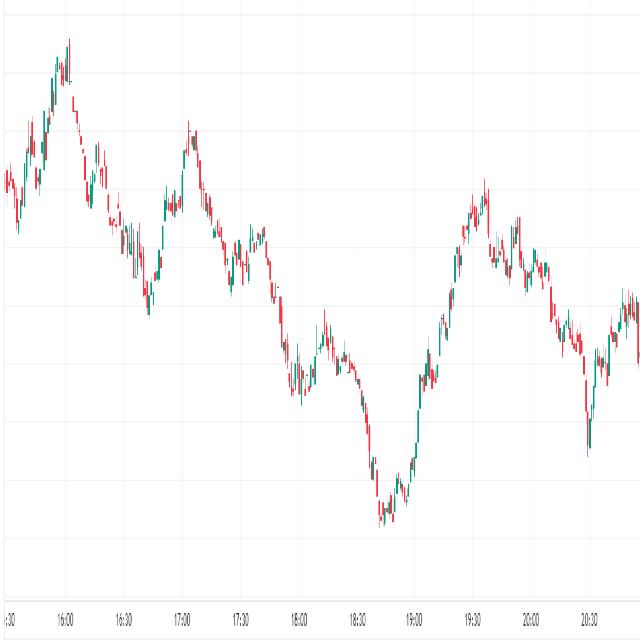Descending-Triangle: (20, 0, 304, 324)
